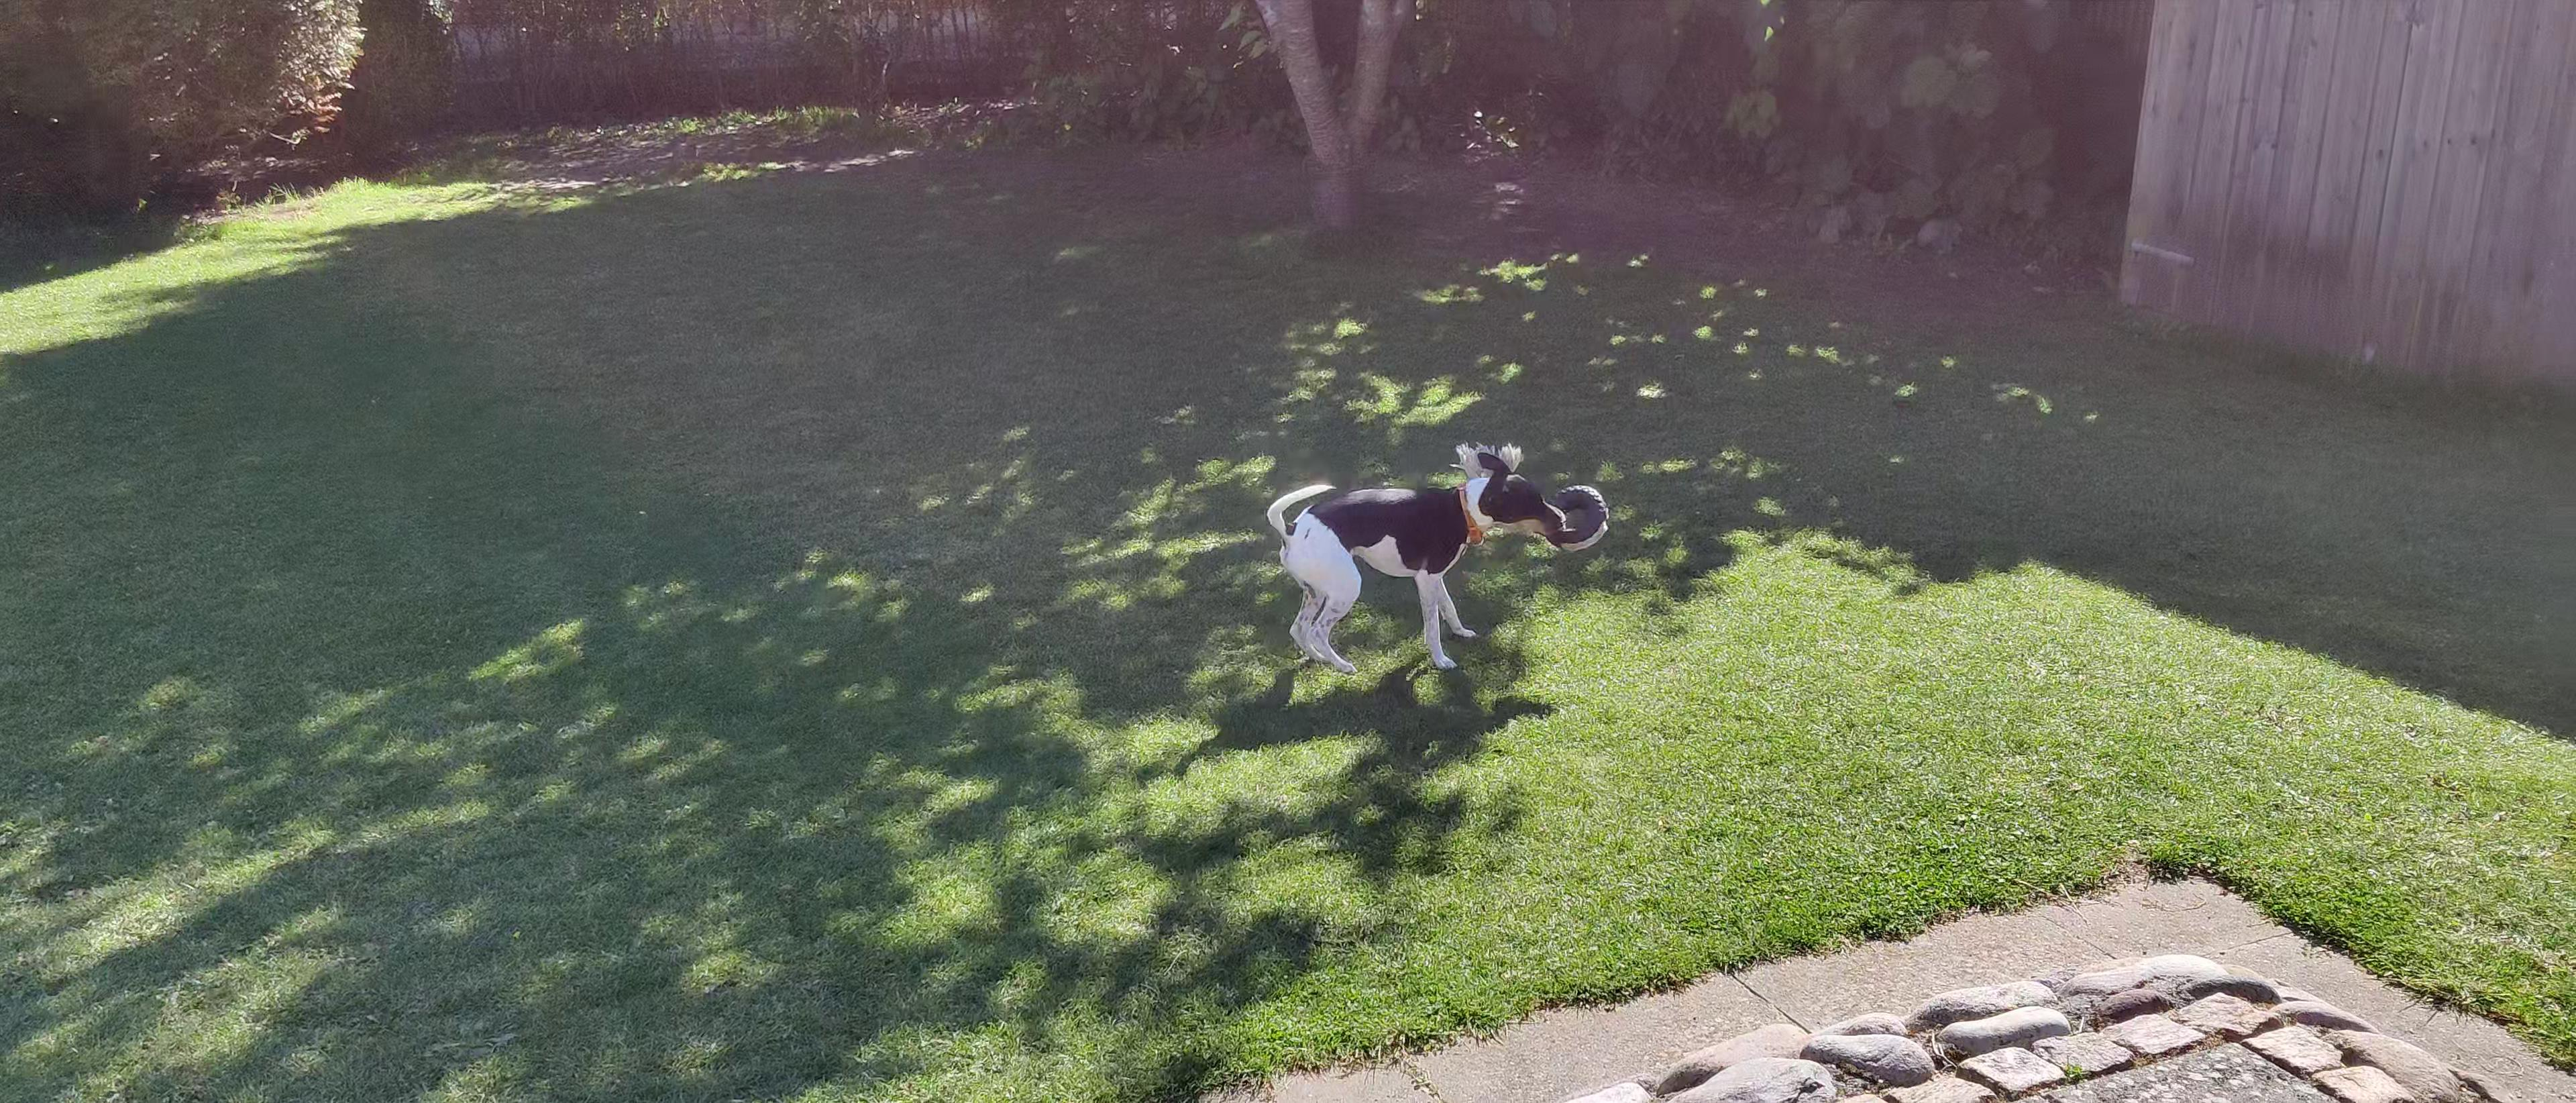Dog: (1260, 450, 1572, 676)
